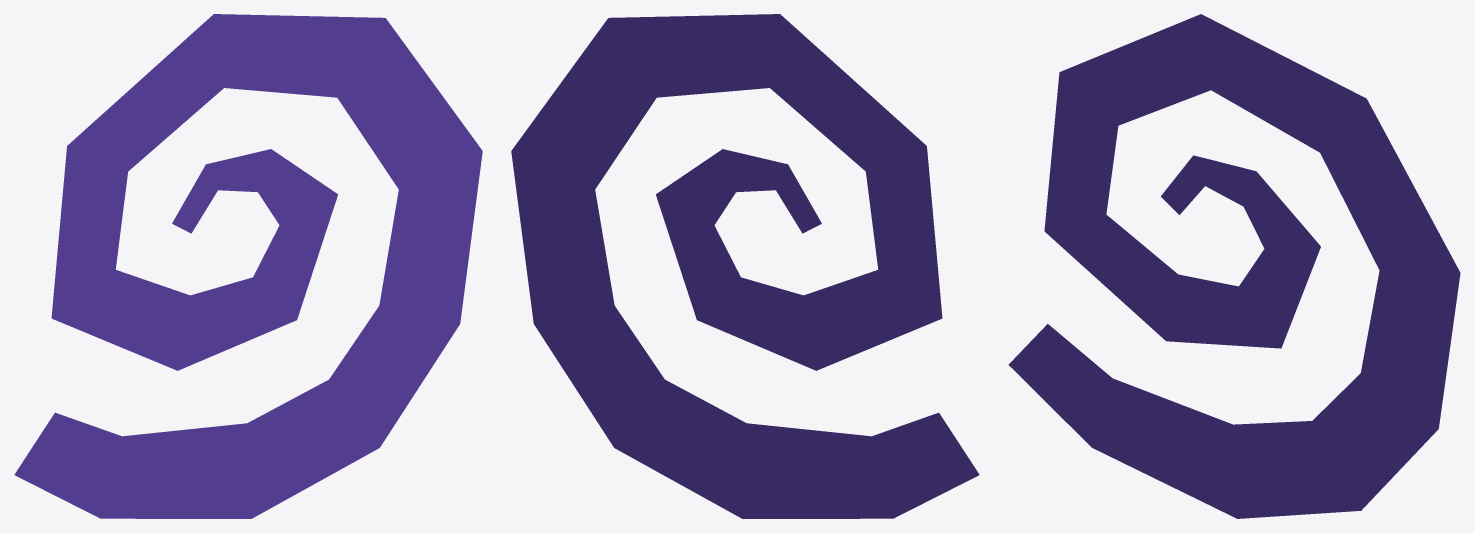
Rendered from neonCavePaintingSpiralPurple.glb.
3 views of the same model, side by side, from view 1: azimuth 30°, elevation 25°; view 2: azimuth 150°, elevation 25°; view 3: azimuth 330°, elevation 25° (orthographic). The views are drawn at different scales.
Parts seen in each view (by area): view 1: neonCavePaintingSpiralPurple; view 2: neonCavePaintingSpiralPurple; view 3: neonCavePaintingSpiralPurple.
Boxes of the visible parts, x1,y1,x2,y2 form: neonCavePaintingSpiralPurple: (14, 14, 482, 518); neonCavePaintingSpiralPurple: (511, 14, 979, 518); neonCavePaintingSpiralPurple: (1008, 14, 1460, 518).
Size of the model in its own units: 0.1439 by 0.1509 by 2.85e-06.
